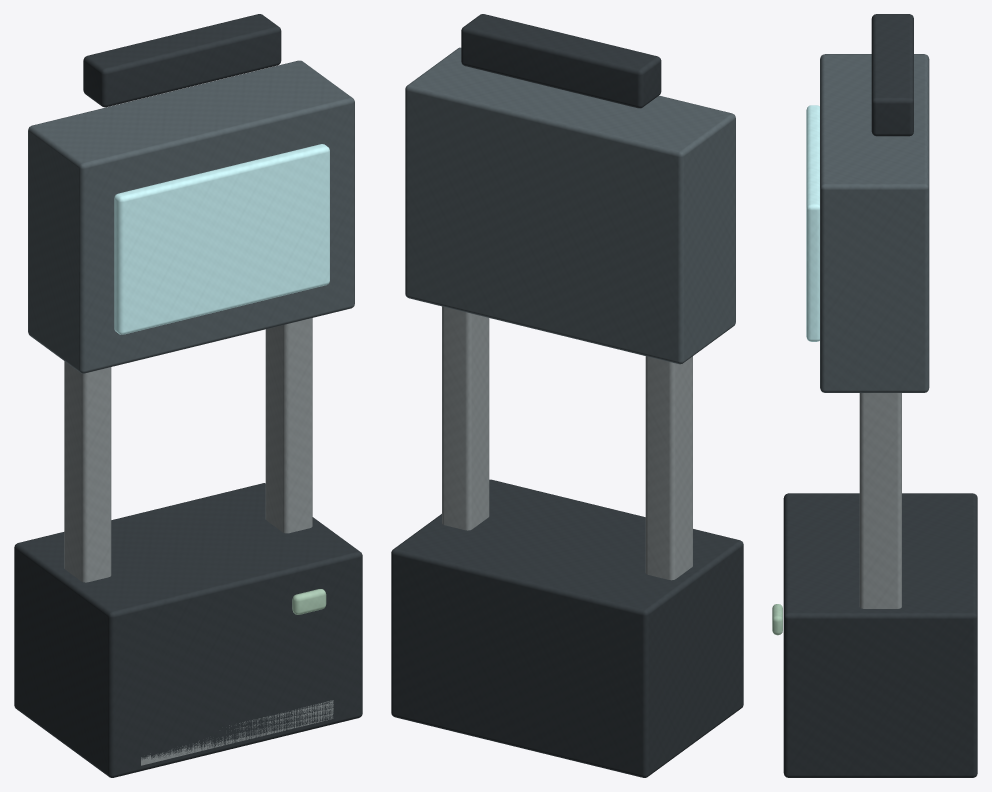
The model's file is PortableWorkLight.glb.
3 views of the same model, side by side, from view 1: azimuth 30°, elevation 25°; view 2: azimuth 150°, elevation 25°; view 3: azimuth 270°, elevation 25° (orthographic). The views are drawn at different scales.
Parts seen in each view (by area): view 1: PortableWorkLight_Mesh; view 2: PortableWorkLight_Mesh; view 3: PortableWorkLight_Mesh.
Boxes of the visible parts, box(x1,y1,x2,y2) form: PortableWorkLight_Mesh: box(14, 14, 362, 777); PortableWorkLight_Mesh: box(391, 14, 743, 777); PortableWorkLight_Mesh: box(772, 14, 977, 777).
Bounding box in the file's own units: 0.52 × 1.2 × 0.339.
Materials: 5 (5 with a texture image).
